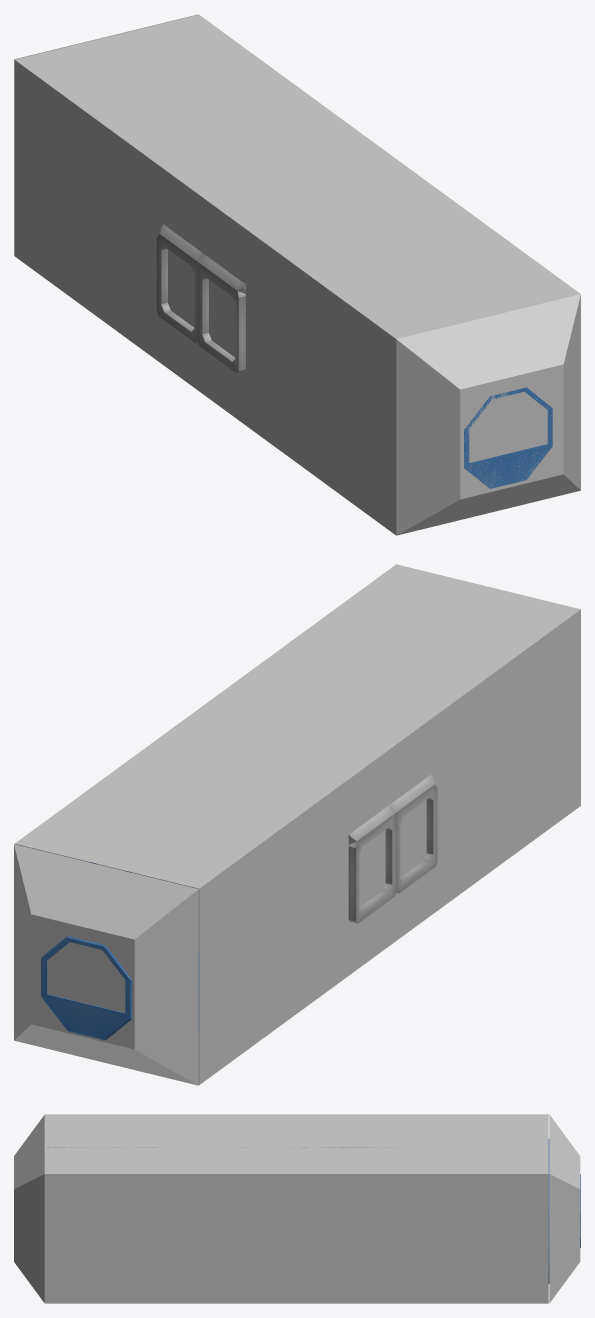
Rendered from SM_Train.fbx.
3 views of the same model, one above another, from view 1: azimuth 30°, elevation 25°; view 2: azimuth 150°, elevation 25°; view 3: azimuth 270°, elevation 25° (orthographic). The views are drawn at different scales.
Parts seen in each view (by area): view 1: SM_Train_ConvexHulls, SM_Train; view 2: SM_Train_ConvexHulls, SM_Train; view 3: SM_Train_ConvexHulls, SM_Train.
Boxes of the visible parts, bbox=[...] form: SM_Train_ConvexHulls: bbox=[14, 14, 580, 535]; SM_Train: bbox=[156, 224, 552, 488]; SM_Train_ConvexHulls: bbox=[14, 564, 580, 1085]; SM_Train: bbox=[41, 774, 437, 1040]; SM_Train_ConvexHulls: bbox=[14, 1114, 580, 1303]; SM_Train: bbox=[46, 1139, 580, 1283].
Size of the model in its own units: 200 by 774 by 195.
2 materials, 1 textured.
